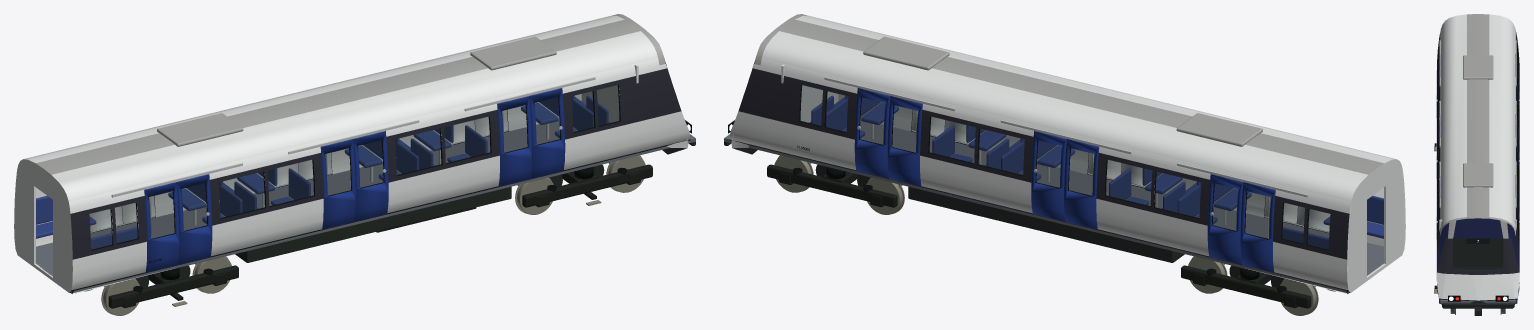
File: mf77_cab.glb
3 renders of one model, left to right at view 1: azimuth 30°, elevation 25°; view 2: azimuth 150°, elevation 25°; view 3: azimuth 270°, elevation 25°, orthographic. The views are drawn at different scales.
Parts seen in each view (by area): view 1: METRO_MF77_IDFM-5voit_V1_Caisse, METRO_MF77_IDFM-5voit_V1_BaieG1, METRO_MF77_IDFM-5voit_V1_PorteD3_AV.002, METRO_MF77_IDFM-5voit_V1_PorteD2_AV.002, METRO_MF77_IDFM-5voit_V1_PorteD1_AV.002, METRO_MF77_IDFM-5voit_V1_PorteD2_AR.002, METRO_MF77_IDFM-5voit_V1_PorteD1_AR.002, METRO_MF77_IDFM-5voit_V1_PorteD3_AR.002, METRO_MF77_IDFM-5voit_V1_PorteD2_AR_Vitre, METRO_MF77_IDFM-5voit_V1_PorteD1_AV_Vitre, METRO_MF77_IDFM-5voit_V1_PorteD3_AV_Vitre, METRO_MF77_IDFM-5voit_V1_PorteD2_AV_Vitre (+3 smaller); view 2: METRO_MF77_IDFM-5voit_V1_Caisse, METRO_MF77_IDFM-5voit_V1_BaieG1, METRO_MF77_IDFM-5voit_V1_PorteG3_AV.002, METRO_MF77_IDFM-5voit_V1_PorteG2_AV.002, METRO_MF77_IDFM-5voit_V1_PorteG1_AV.002, METRO_MF77_IDFM-5voit_V1_PorteG1_AR.002, METRO_MF77_IDFM-5voit_V1_PorteG2_AR.002, METRO_MF77_IDFM-5voit_V1_PorteG3_AR.002, METRO_MF77_IDFM-5voit_V1_PorteG2_AR_Vitre, METRO_MF77_IDFM-5voit_V1_PorteG1_AV_Vitre, METRO_MF77_IDFM-5voit_V1_PorteG3_AV_Vitre, METRO_MF77_IDFM-5voit_V1_PorteG2_AV_Vitre (+3 smaller); view 3: METRO_MF77_IDFM-5voit_V1_Caisse, METRO_MF77_IDFM-5voit_V1_BaieG1, METRO_MF77_IDFM-5voit_V1_PorteG3_AV.002, METRO_MF77_IDFM-5voit_V1_PorteG2_AV.002.
Boxes of the visible parts, x1,y1,x2,y2 form: METRO_MF77_IDFM-5voit_V1_Caisse: [14, 14, 695, 315]; METRO_MF77_IDFM-5voit_V1_BaieG1: [36, 85, 619, 249]; METRO_MF77_IDFM-5voit_V1_PorteD3_AV.002: [176, 174, 212, 264]; METRO_MF77_IDFM-5voit_V1_PorteD2_AV.002: [353, 131, 388, 221]; METRO_MF77_IDFM-5voit_V1_PorteD1_AV.002: [529, 88, 565, 178]; METRO_MF77_IDFM-5voit_V1_PorteD2_AR.002: [320, 139, 355, 229]; METRO_MF77_IDFM-5voit_V1_PorteD1_AR.002: [497, 96, 532, 186]; METRO_MF77_IDFM-5voit_V1_PorteD3_AR.002: [144, 182, 179, 272]; METRO_MF77_IDFM-5voit_V1_PorteD2_AR_Vitre: [326, 148, 350, 195]; METRO_MF77_IDFM-5voit_V1_PorteD1_AV_Vitre: [535, 97, 559, 144]; METRO_MF77_IDFM-5voit_V1_PorteD3_AV_Vitre: [182, 184, 206, 230]; METRO_MF77_IDFM-5voit_V1_PorteD2_AV_Vitre: [358, 141, 383, 187]; METRO_MF77_IDFM-5voit_V1_Caisse: [724, 14, 1405, 315]; METRO_MF77_IDFM-5voit_V1_BaieG1: [800, 85, 1383, 249]; METRO_MF77_IDFM-5voit_V1_PorteG3_AV.002: [1207, 174, 1243, 264]; METRO_MF77_IDFM-5voit_V1_PorteG2_AV.002: [1031, 131, 1066, 221]; METRO_MF77_IDFM-5voit_V1_PorteG1_AV.002: [854, 88, 890, 178]; METRO_MF77_IDFM-5voit_V1_PorteG1_AR.002: [887, 96, 922, 186]; METRO_MF77_IDFM-5voit_V1_PorteG2_AR.002: [1064, 139, 1099, 229]; METRO_MF77_IDFM-5voit_V1_PorteG3_AR.002: [1240, 182, 1275, 272]; METRO_MF77_IDFM-5voit_V1_PorteG2_AR_Vitre: [1069, 148, 1093, 195]; METRO_MF77_IDFM-5voit_V1_PorteG1_AV_Vitre: [860, 97, 884, 144]; METRO_MF77_IDFM-5voit_V1_PorteG3_AV_Vitre: [1213, 184, 1237, 230]; METRO_MF77_IDFM-5voit_V1_PorteG2_AV_Vitre: [1036, 141, 1061, 187]; METRO_MF77_IDFM-5voit_V1_Caisse: [1434, 14, 1519, 315]; METRO_MF77_IDFM-5voit_V1_BaieG1: [1438, 97, 1517, 271]; METRO_MF77_IDFM-5voit_V1_PorteG3_AV.002: [1515, 65, 1519, 110]; METRO_MF77_IDFM-5voit_V1_PorteG2_AV.002: [1515, 126, 1519, 171].
Size of the model in its own units: 15.44 by 3.49 by 2.55.
9 materials, 9 textured.
